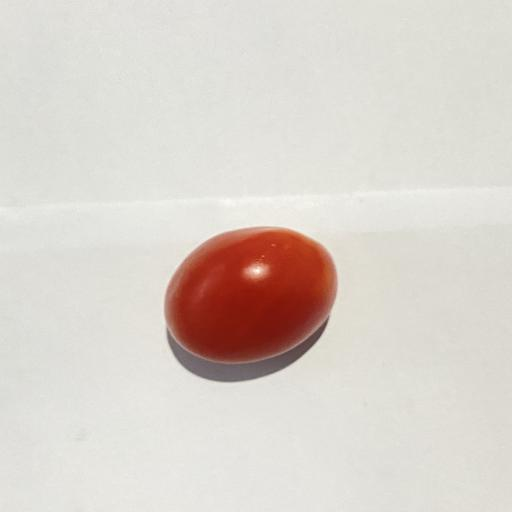ripe: (164, 227, 337, 364)
